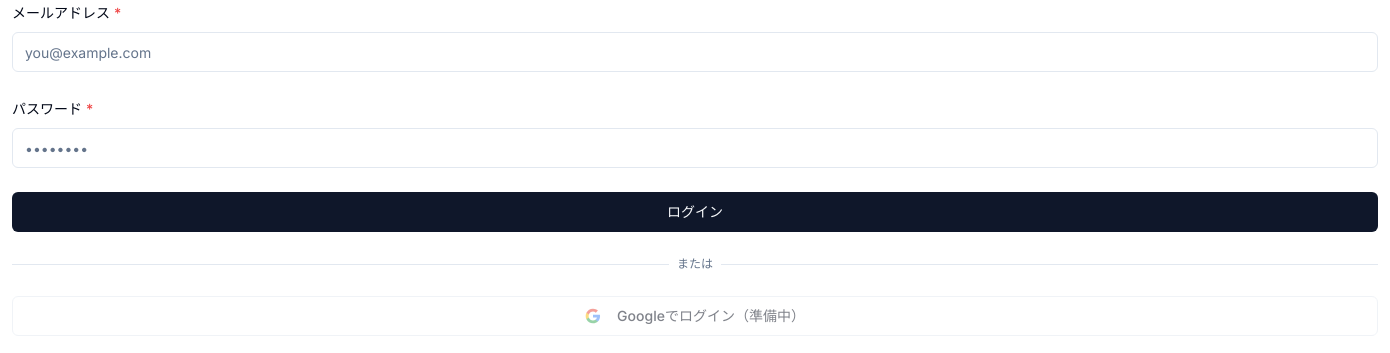
LoginForm › ローディング状態 › 送信中の状態: フォーム送信中にローディング状態が表示されること
Type "test@example.com" into the field labelled "メールアドレス*" at (695,52), box [12, 32, 1378, 72]
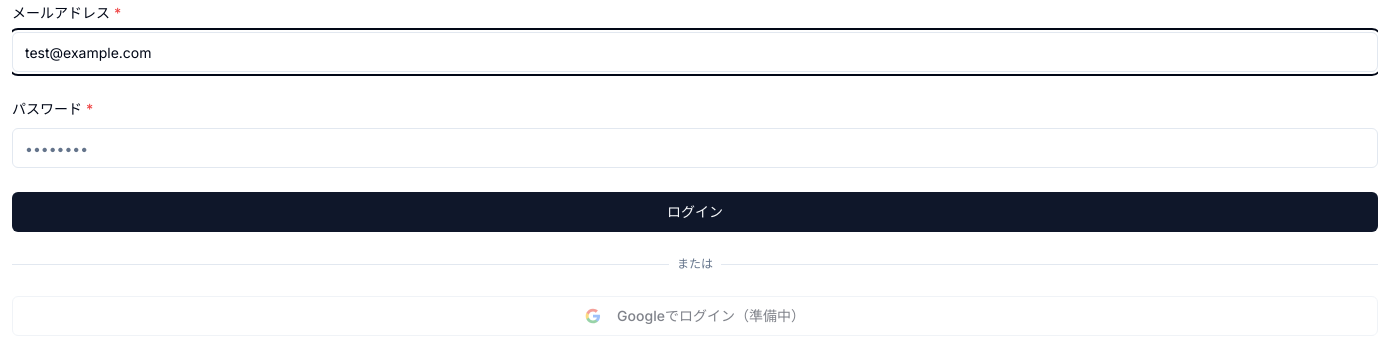
Type "Password123" into the password field labelled "パスワード*" at (695,148), box [12, 128, 1378, 168]
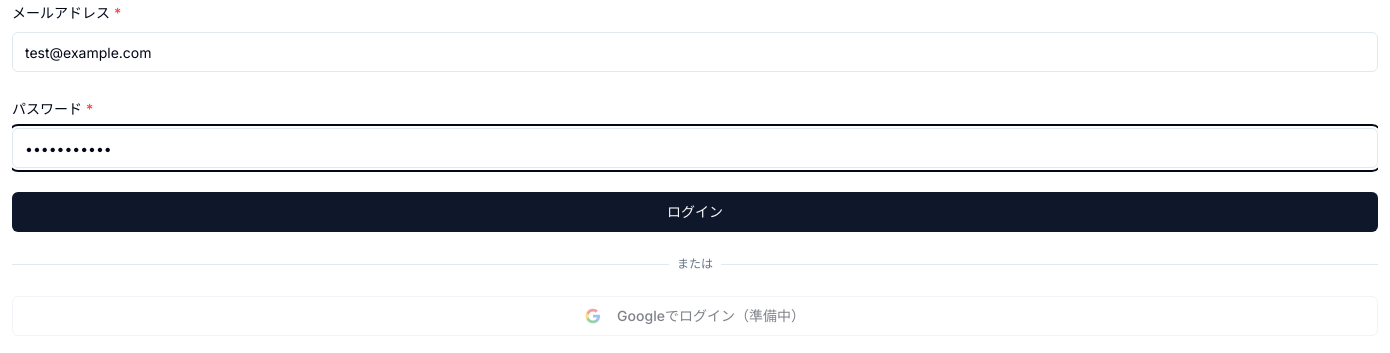
Click the button "ログイン" at (695,212), box [12, 192, 1378, 232]
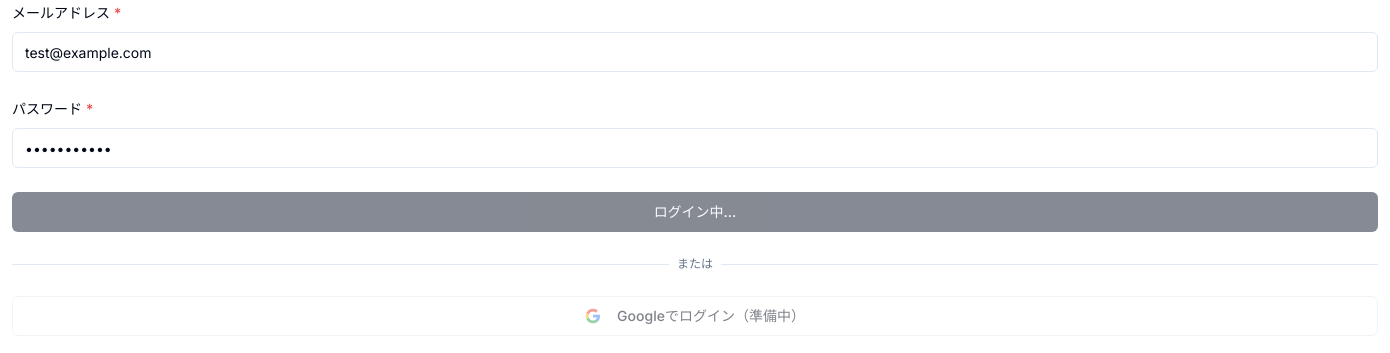
Expected: the button "ログイン中..." is disabled, [12, 192, 1378, 232]
